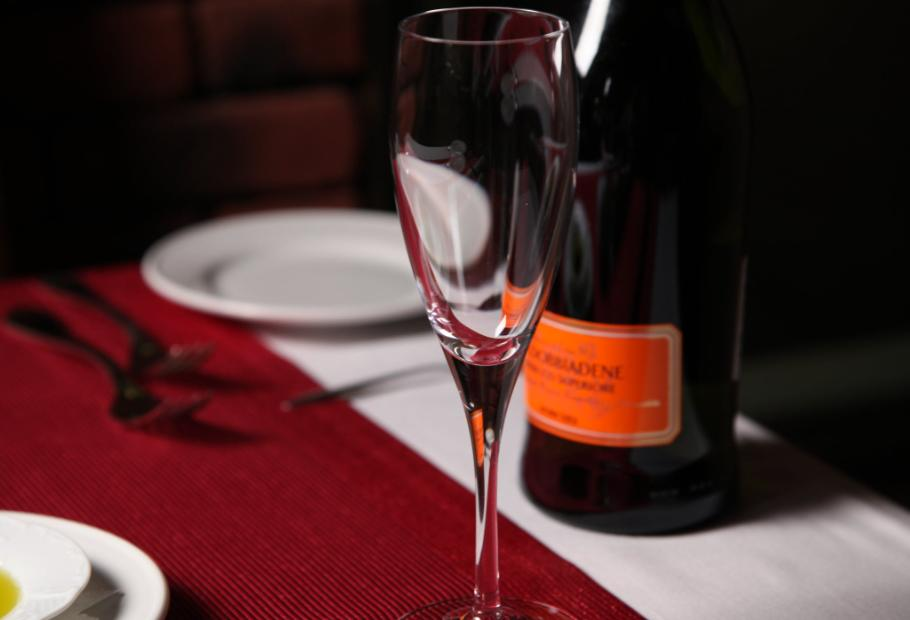wine bottle: (517, 0, 756, 535)
wine label: (512, 289, 682, 449)
